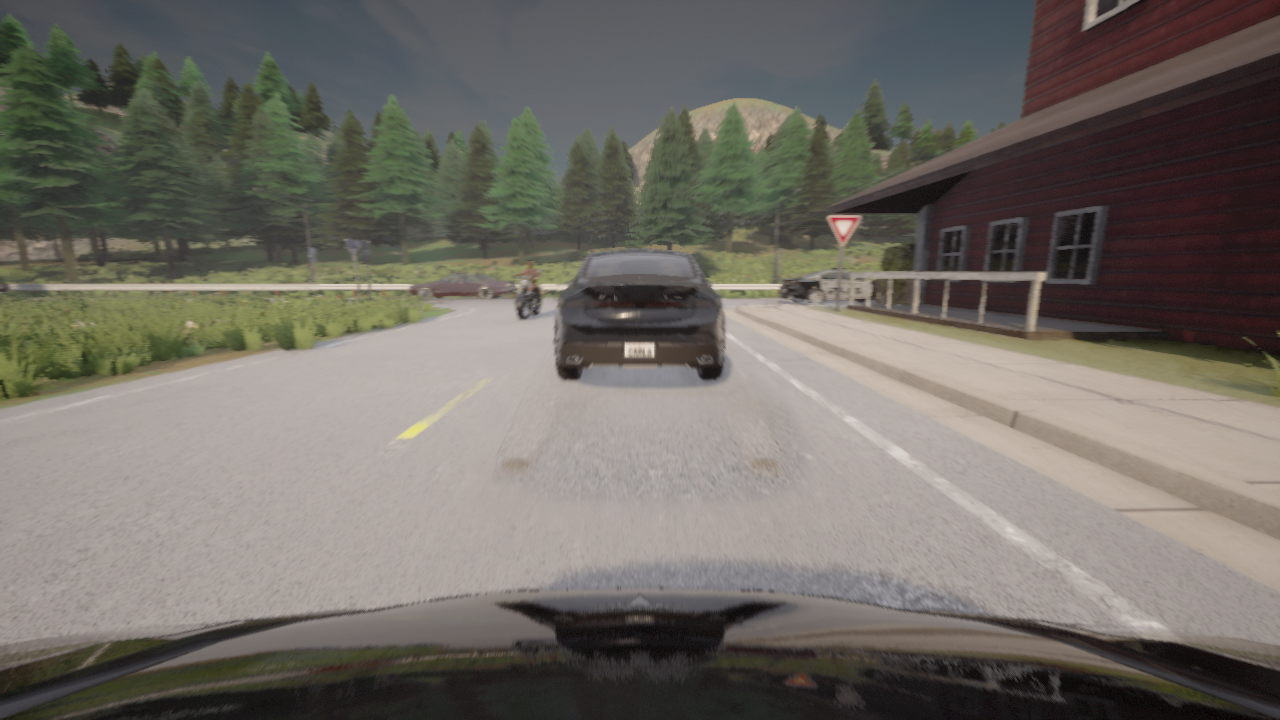cyclist: (0, 588, 1279, 719), (555, 248, 724, 379), (780, 266, 879, 304), (406, 272, 519, 300), (514, 270, 543, 319)
